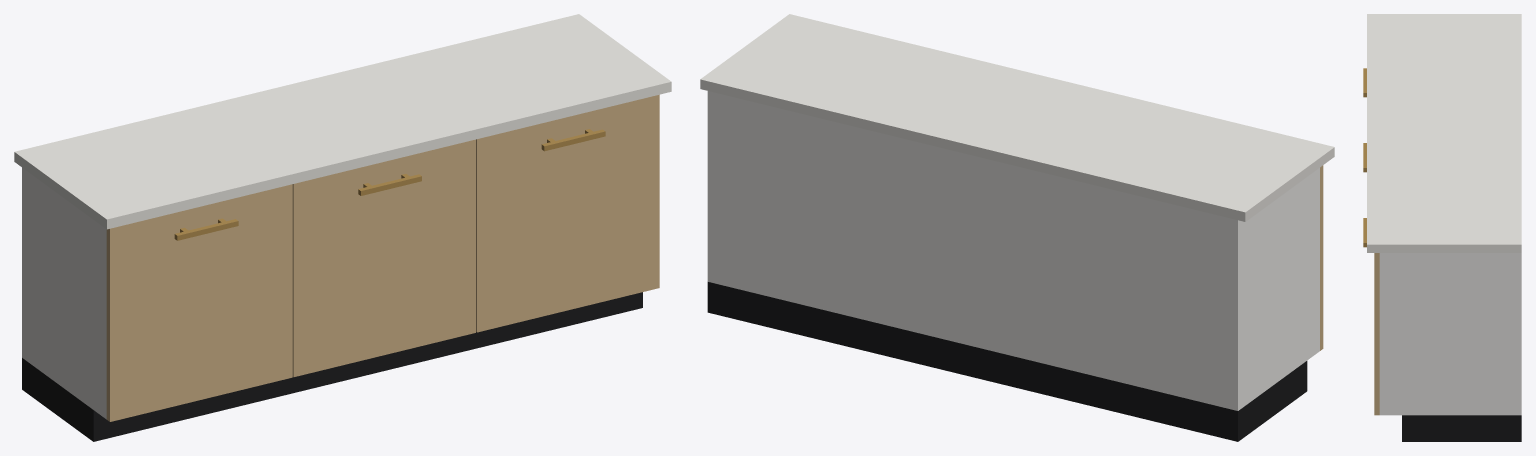
File: demo-001-reception-credenza.glb
The picture shows the model from 3 angles, left to right: view 1: azimuth 30°, elevation 25°; view 2: azimuth 150°, elevation 25°; view 3: azimuth 270°, elevation 25°; orthographic projection. The views are drawn at different scales.
Visible parts, largest first — view 1: Reception credenza; view 2: Reception credenza; view 3: Reception credenza.
Boxes of the visible parts, x1,y1,x2,y2 form: Reception credenza: [14, 14, 671, 441]; Reception credenza: [700, 14, 1334, 441]; Reception credenza: [1363, 14, 1521, 441].
Bounding box in the file's own units: 1.88 × 0.762 × 0.5461.
